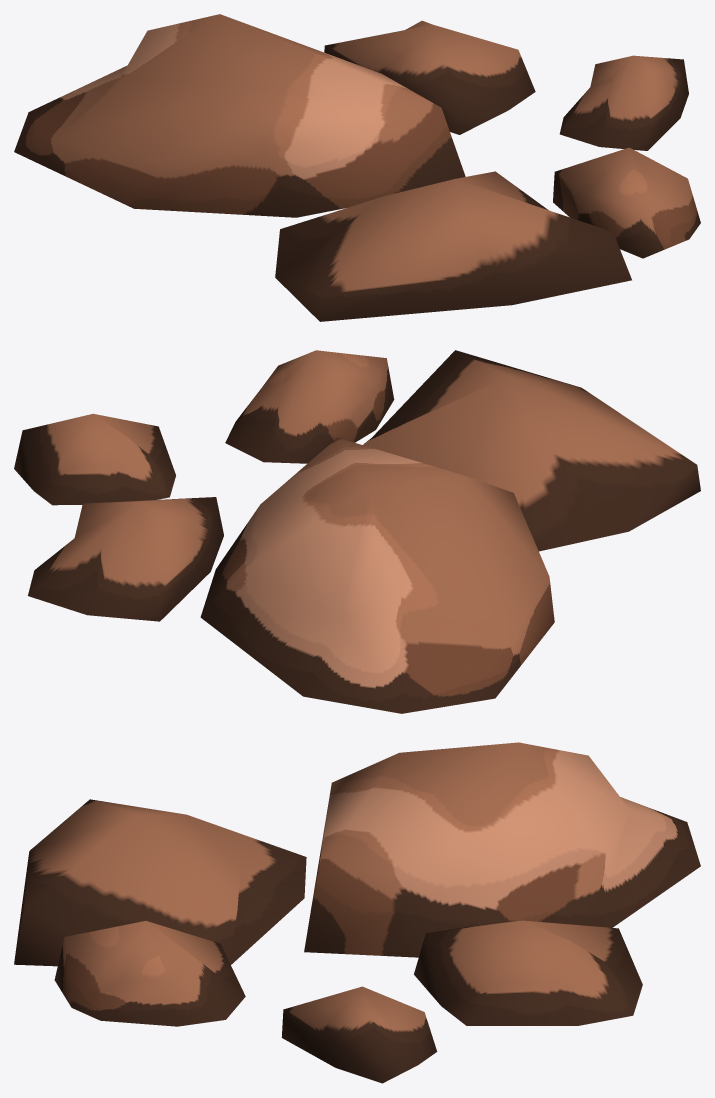
The model's file is Rock 6x 6 8_preview_3DS_simplified.glb.
The picture shows the model from 3 angles, top to bottom: view 1: azimuth 30°, elevation 25°; view 2: azimuth 150°, elevation 25°; view 3: azimuth 270°, elevation 25°; orthographic projection. The views are drawn at different scales.
Parts seen in each view (by area): view 1: Marine Park Empire model; view 2: Marine Park Empire model; view 3: Marine Park Empire model.
Boxes of the visible parts, bbox=[...] form: Marine Park Empire model: bbox=[14, 14, 700, 321]; Marine Park Empire model: bbox=[14, 350, 700, 713]; Marine Park Empire model: bbox=[14, 742, 700, 1083].
Size of the model in its own units: 189 by 41.64 by 191.
1 material, 1 textured.
